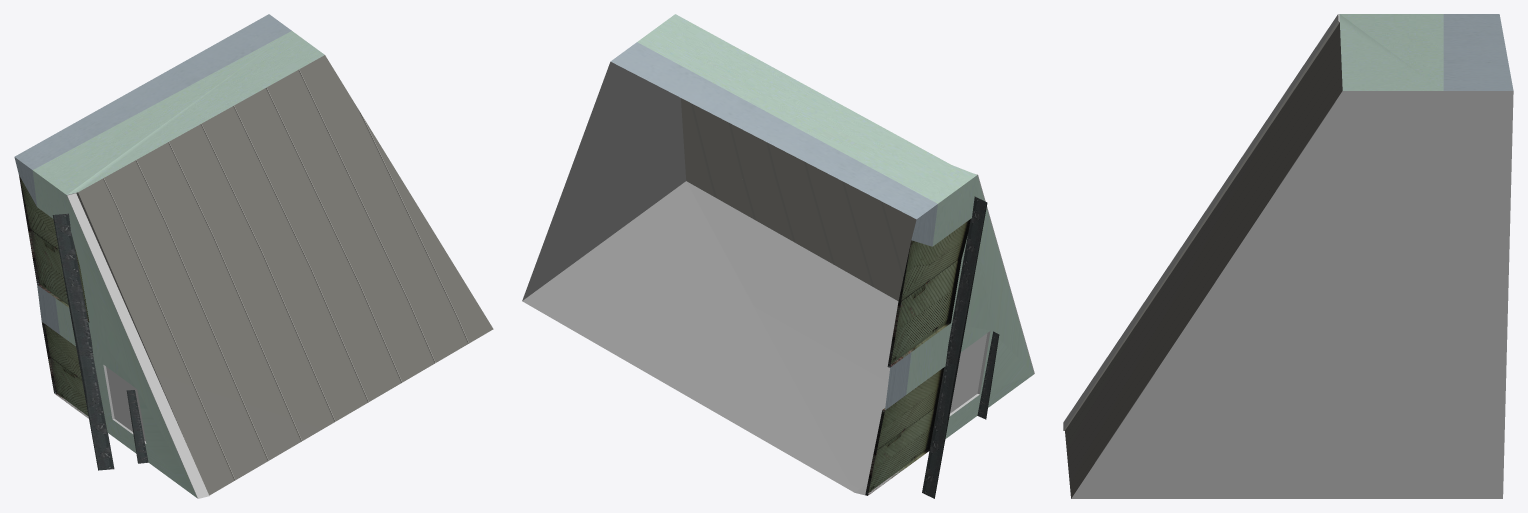
The model's file is Kiriku-6_3-origo.obj.
The picture shows the model from 3 angles, left to right: view 1: azimuth 30°, elevation 25°; view 2: azimuth 150°, elevation 25°; view 3: azimuth 270°, elevation 25°; orthographic projection. The views are drawn at different scales.
Visible parts, largest first — view 1: Kiriku_6_3; view 2: Kiriku_6_3; view 3: Kiriku_6_3.
Boxes of the visible parts, left/top/right/bottom form: Kiriku_6_3: left=14, top=14, right=493, bottom=498; Kiriku_6_3: left=522, top=14, right=1034, bottom=498; Kiriku_6_3: left=1063, top=14, right=1513, bottom=498.
Size of the model in its own units: 9.62 by 9.5 by 7.02.
